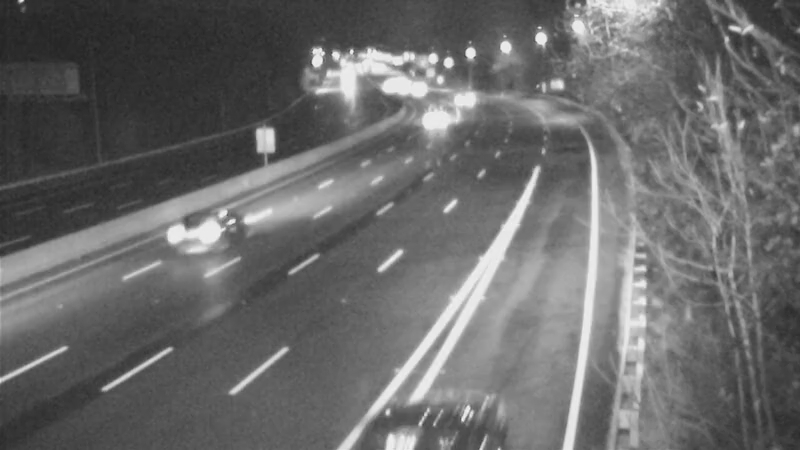vehicle: (161, 194, 241, 274), (391, 65, 441, 115), (441, 70, 491, 120), (414, 98, 464, 148)
